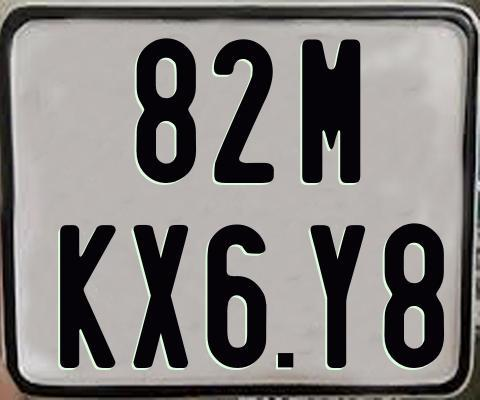2: (214, 38, 277, 185)
6: (204, 223, 265, 373)
8: (383, 220, 448, 369), (136, 35, 197, 184)
K: (60, 225, 117, 374)
M: (302, 37, 363, 181)
X: (132, 223, 187, 370)
Y: (309, 224, 368, 367)
